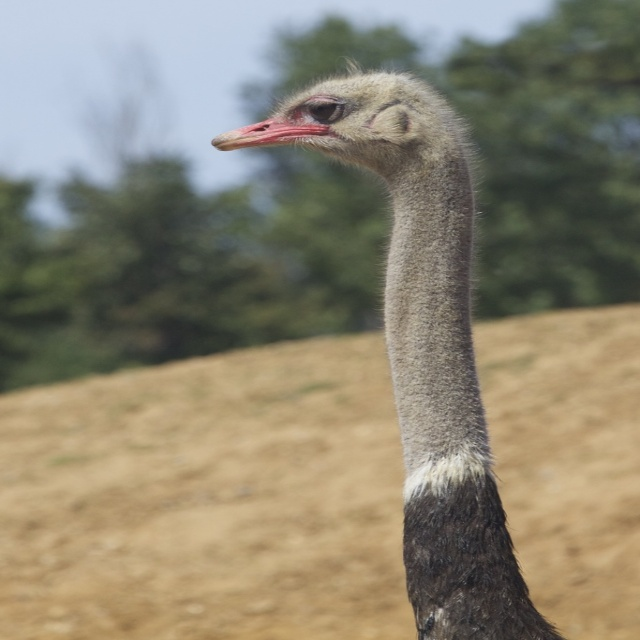Ostrich: (205, 65, 564, 640)
